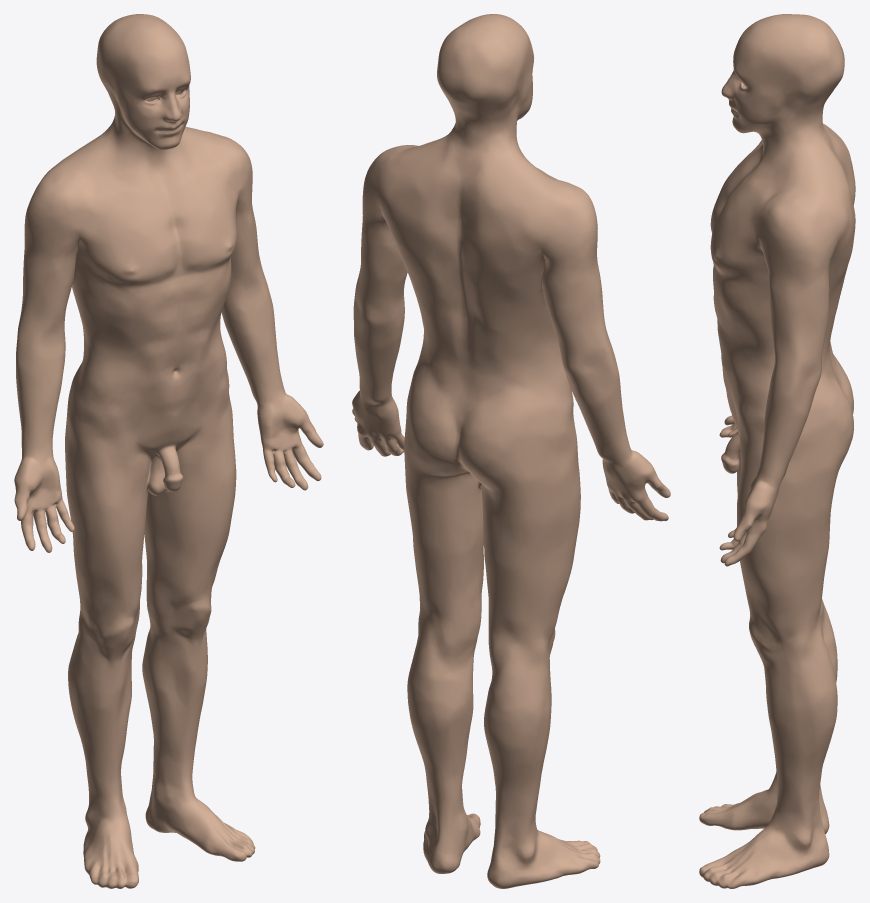
Rendered from skin.glb.
The picture shows the model from 3 angles, left to right: view 1: azimuth 30°, elevation 25°; view 2: azimuth 150°, elevation 25°; view 3: azimuth 270°, elevation 25°; orthographic projection. The views are drawn at different scales.
Visible parts, largest first — view 1: FJ2810; view 2: FJ2810; view 3: FJ2810.
Boxes of the visible parts, x1,y1,x2,y2 form: FJ2810: (14, 14, 323, 888); FJ2810: (352, 14, 670, 888); FJ2810: (699, 14, 855, 888).
Bounding box in the file's own units: 0.6669 × 1.72 × 0.292.
